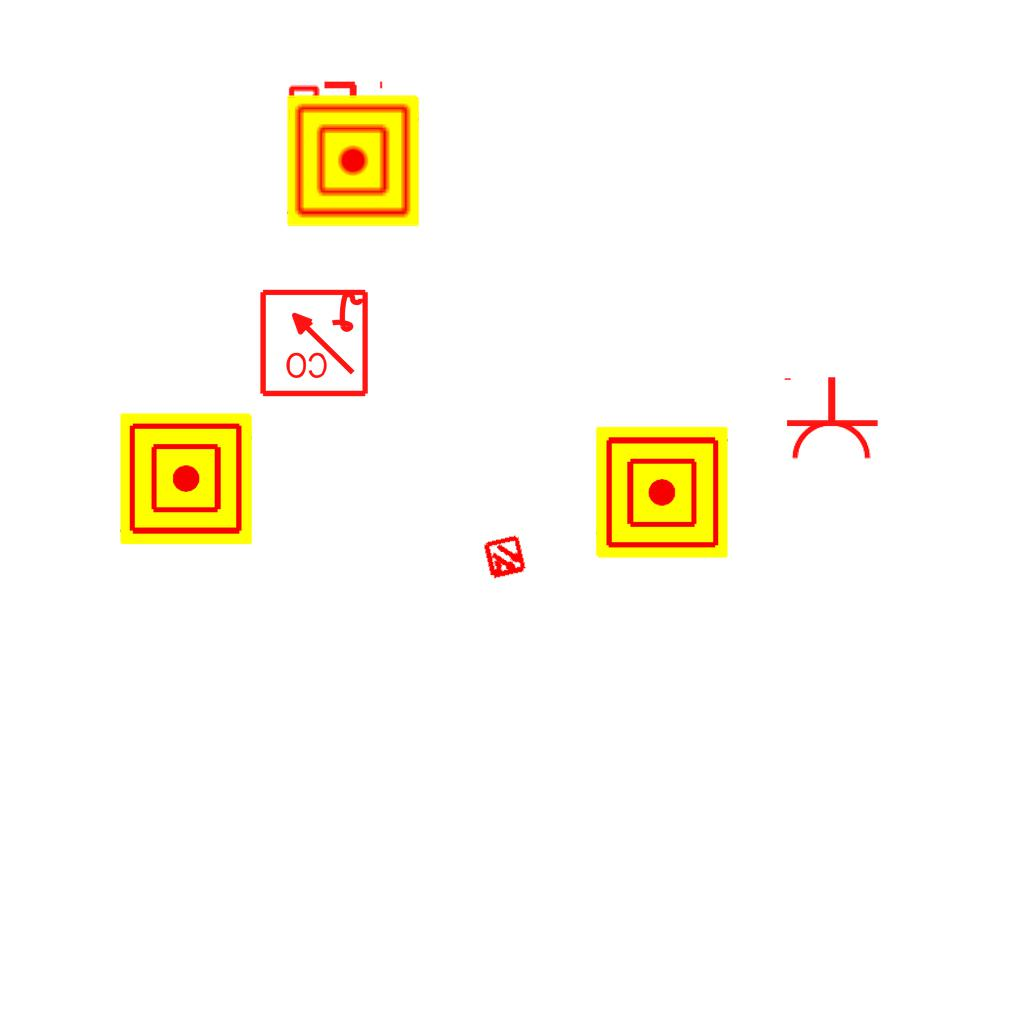Datenanschluss_zweifach: (284, 80, 387, 149)
NAM-Nichtautomatischer_Melder: (120, 413, 252, 545), (596, 426, 728, 558), (287, 95, 419, 227)
OT_Multisensormelder_(Kombination_RMO_WMD): (471, 524, 539, 592)
ROA_Rauchmelder_optisch_mit_Signalgeber_(Sockelsirene): (257, 285, 370, 398)
Schukosteckdose_einfach: (780, 375, 880, 462)
